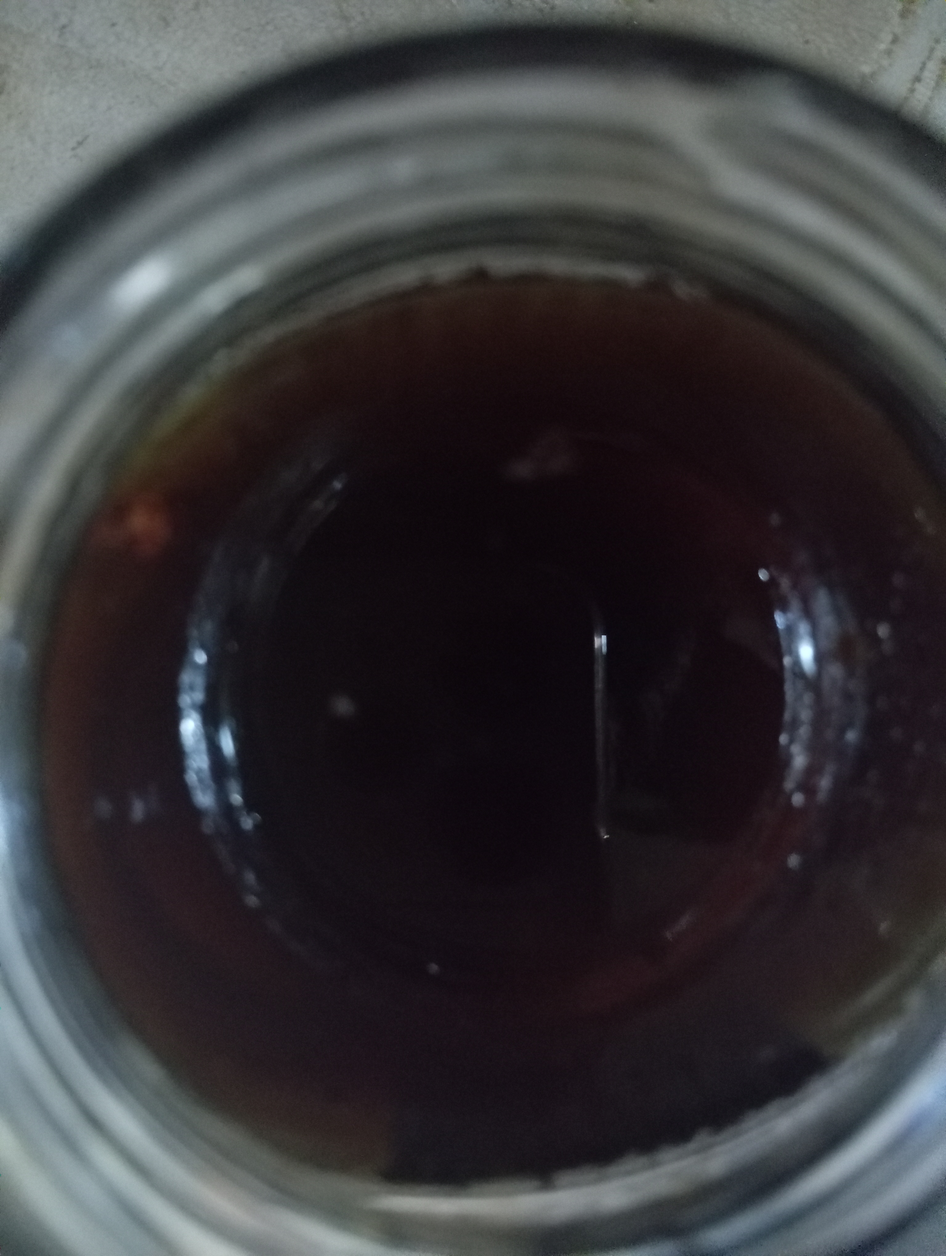non-reusable: (40, 271, 946, 1188)
